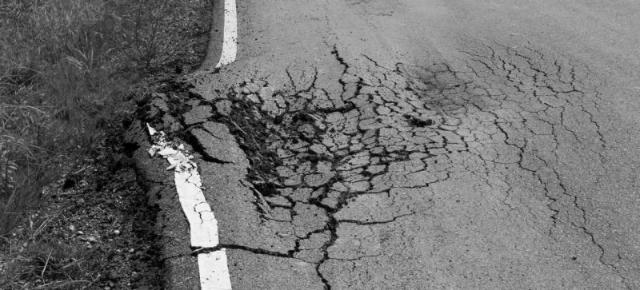Pothole: (148, 53, 588, 236)
